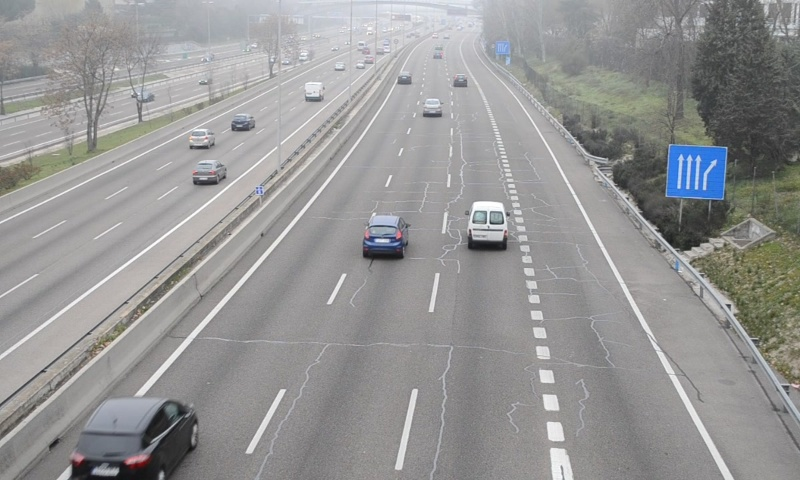car: (71, 398, 196, 480), (362, 216, 406, 258), (422, 98, 441, 117), (452, 73, 468, 88), (396, 70, 412, 85)
van: (467, 202, 507, 248)
